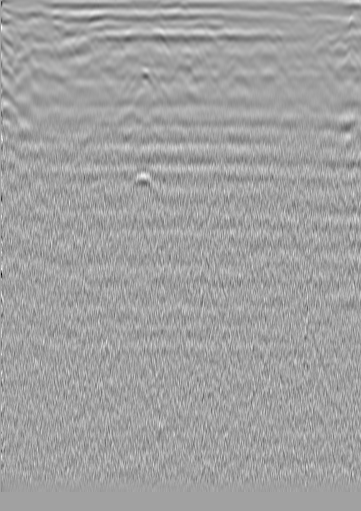가스: (123, 170, 160, 200)
상수: (312, 32, 332, 52)
오수: (21, 31, 41, 51)
우수: (188, 31, 208, 51)
